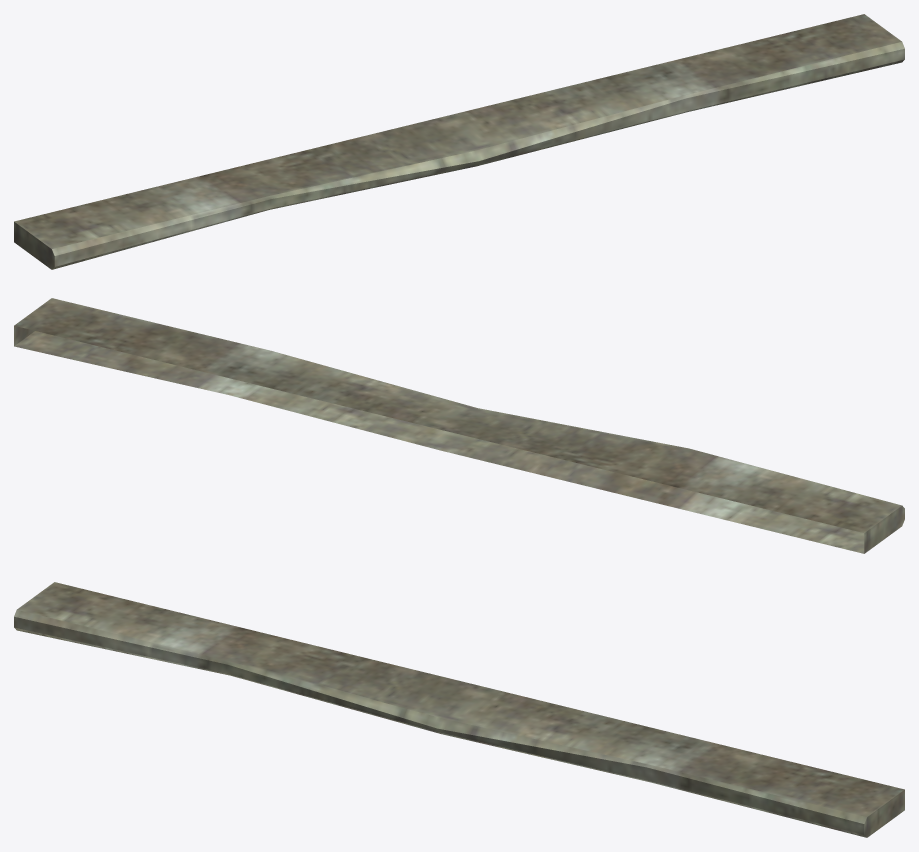
File: WindowPlank.FBX
The picture shows the model from 3 angles, top to bottom: view 1: azimuth 30°, elevation 25°; view 2: azimuth 150°, elevation 25°; view 3: azimuth 330°, elevation 25°; orthographic projection.
Visible parts, largest first — view 1: WindowPlank; view 2: WindowPlank; view 3: WindowPlank.
Part boxes in pixels (box(x1,y1,x2,y2)): WindowPlank: box(14, 14, 904, 269); WindowPlank: box(14, 298, 904, 553); WindowPlank: box(14, 582, 904, 837).
Size of the model in its own units: 357 by 9.37 by 30.93.
